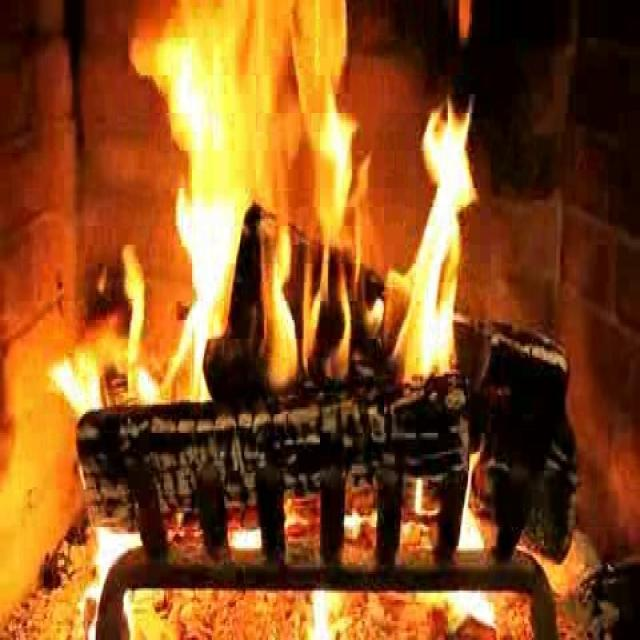Fire: (8, 2, 640, 392)
